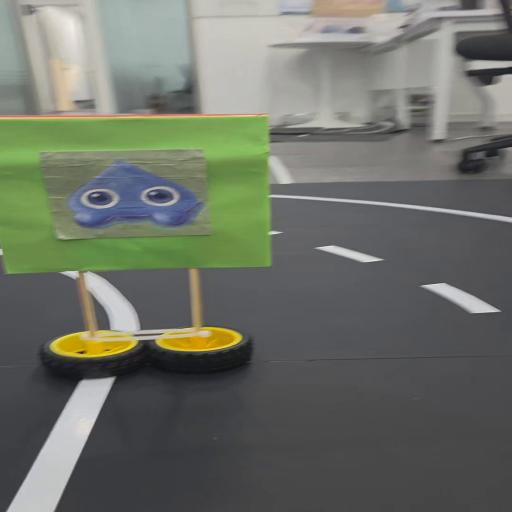Sign_B: (2, 112, 286, 377)
